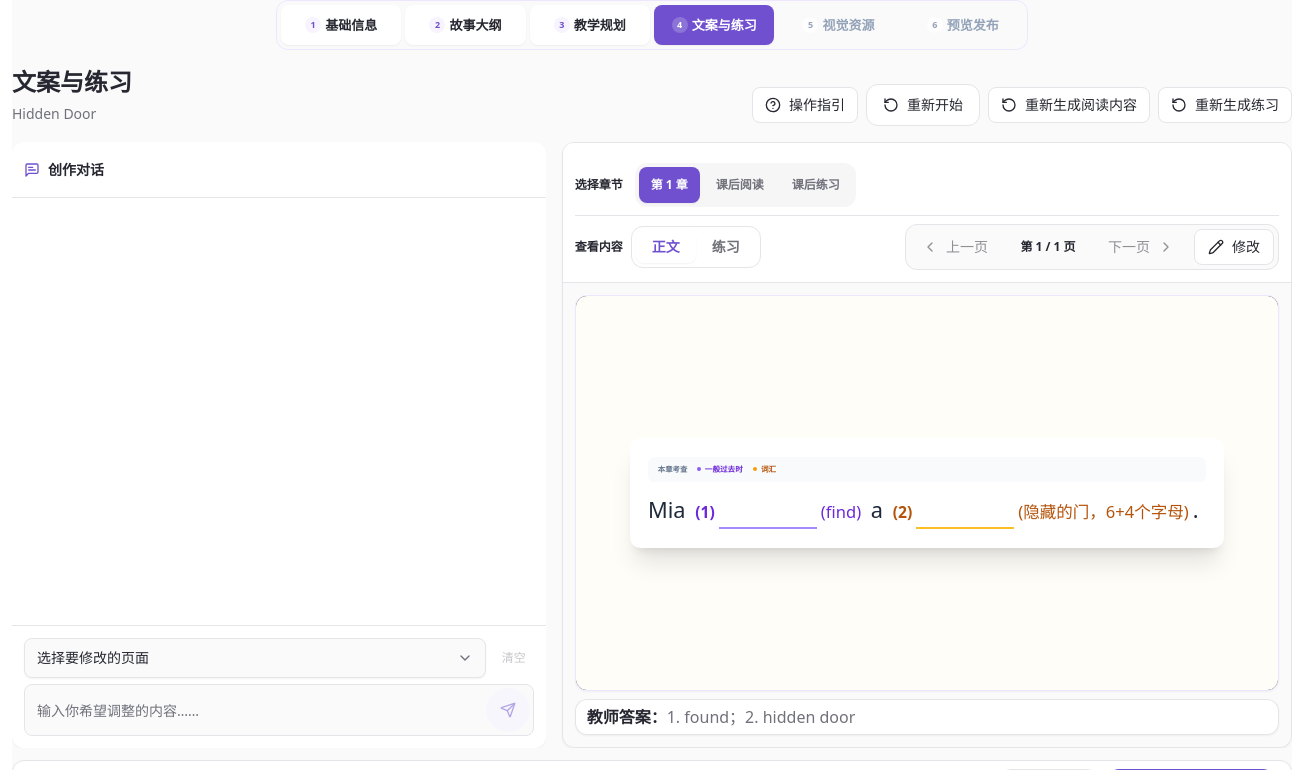
Test: CourseContentWorkspace › balances grammar practice across pages with a five-item capacity
Click the tab "练习": (726, 247) [696,231,756,263]
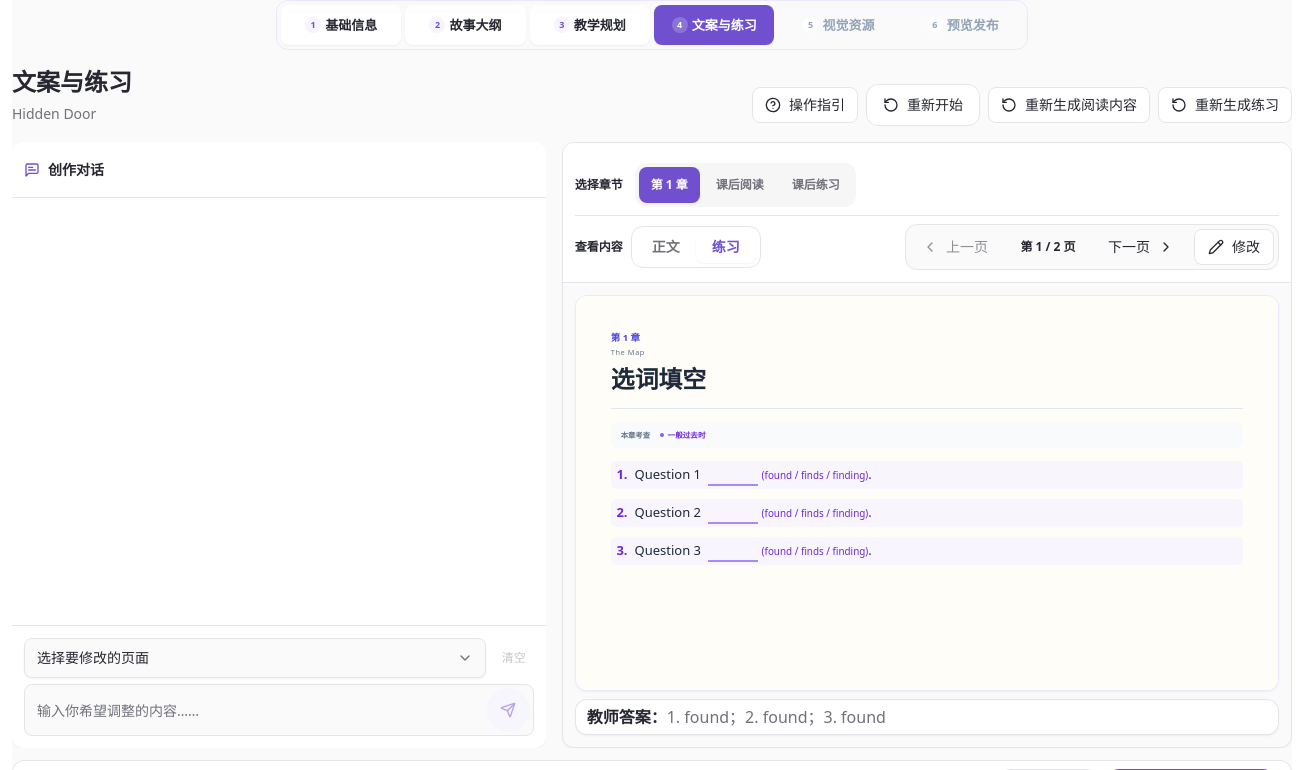
Check: the text "第 1 / 2 页" is shown, box [1020,238,1076,255]
